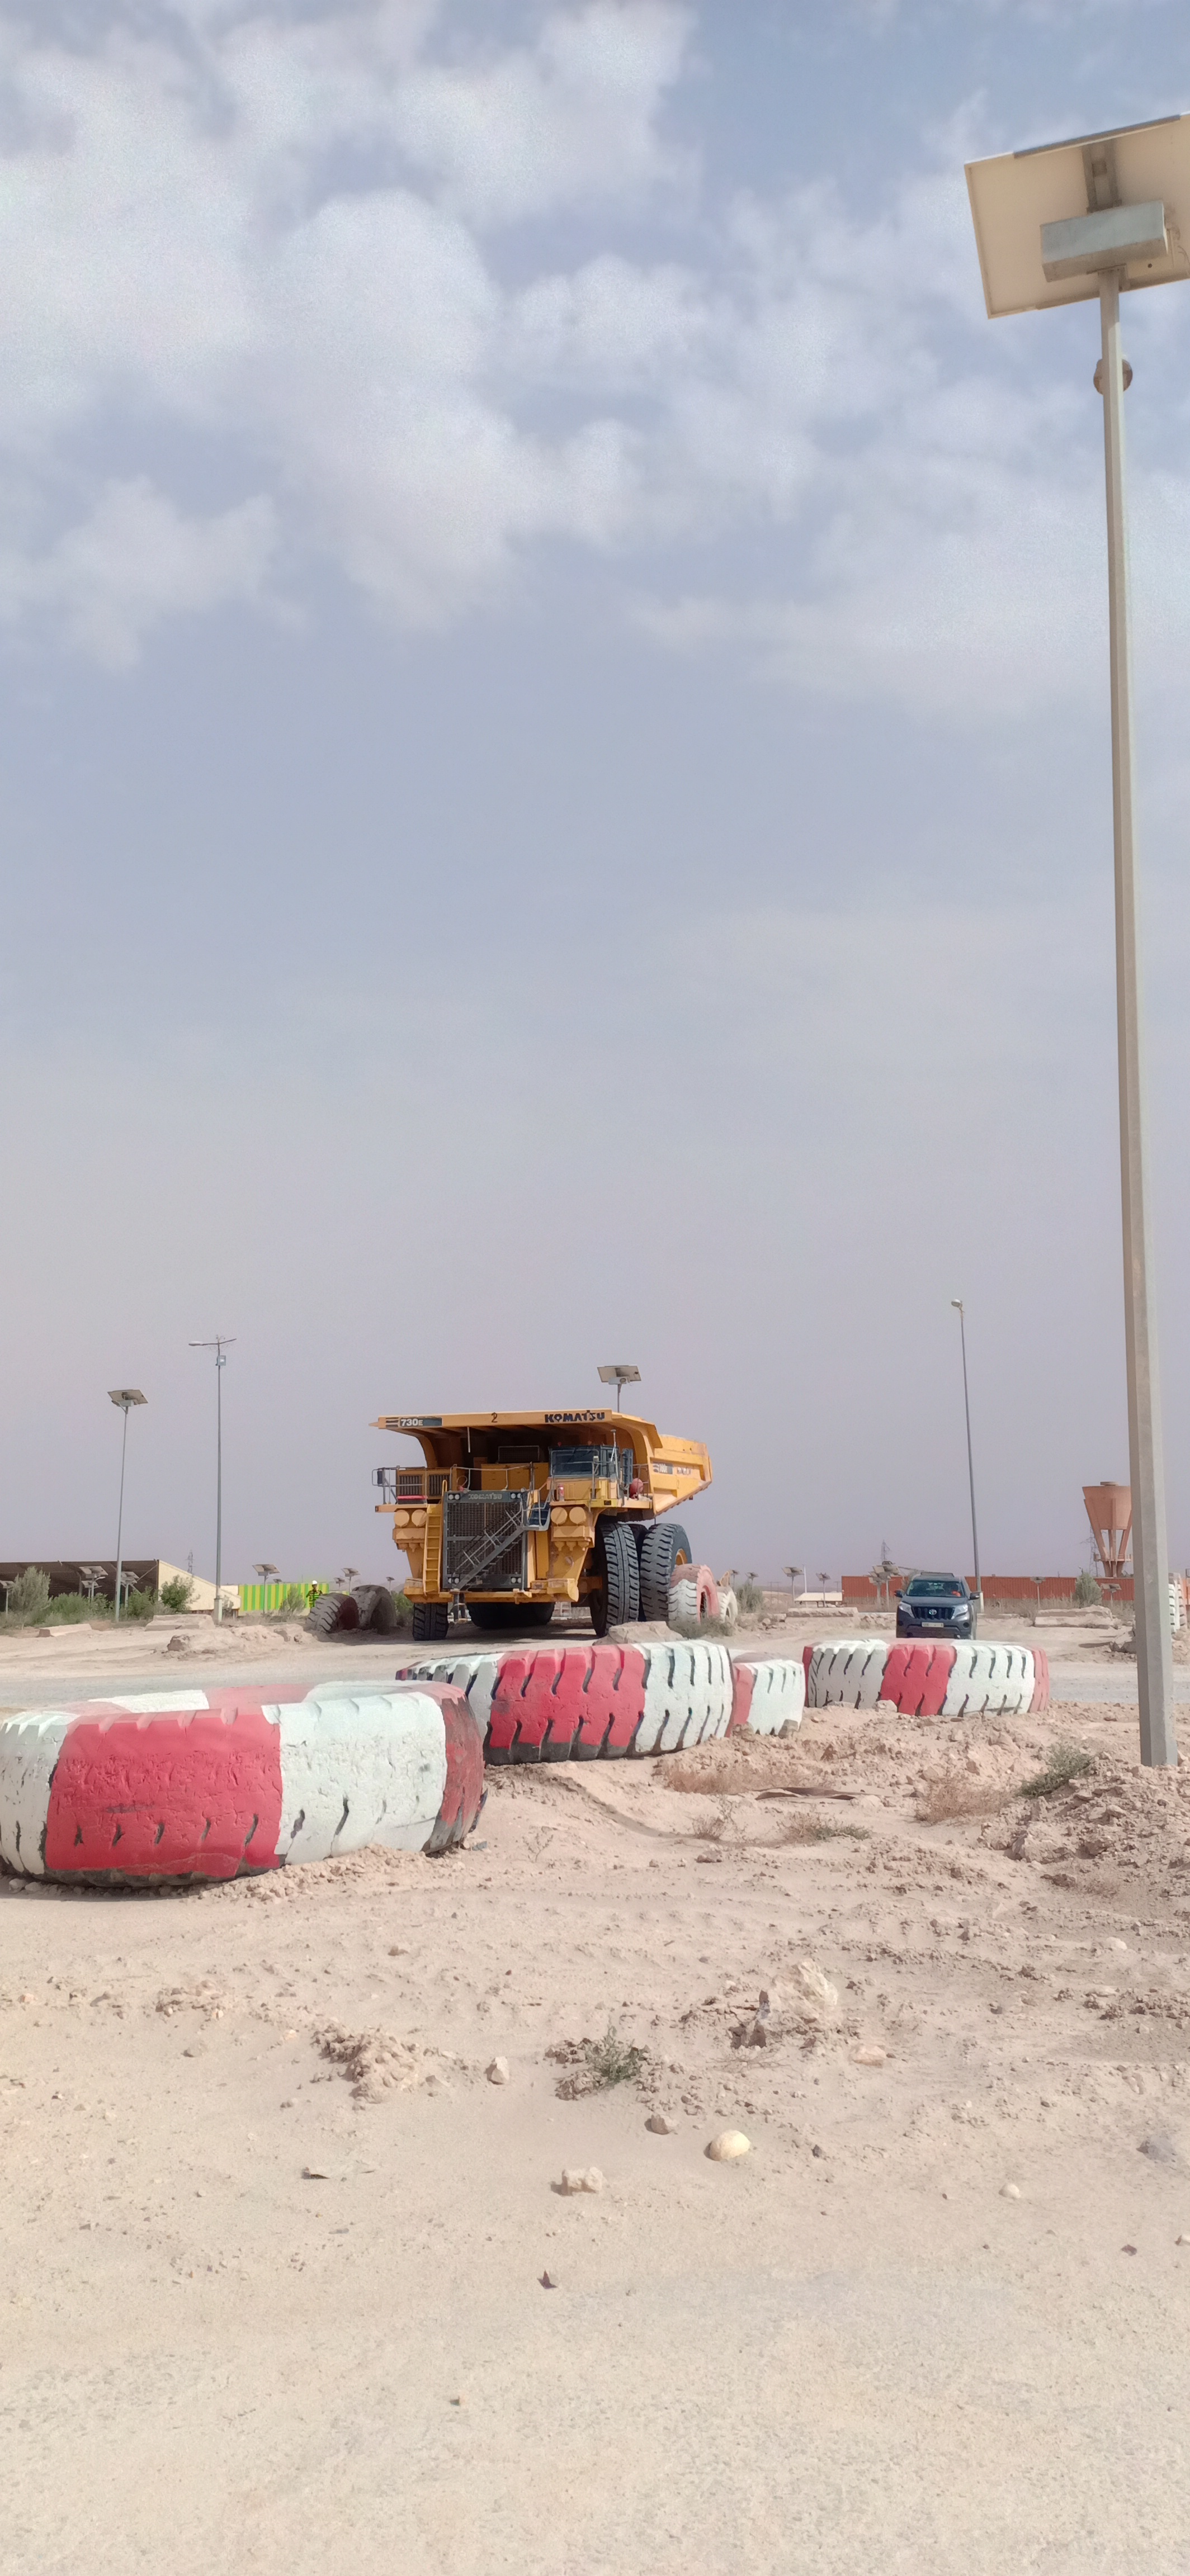camion: (363, 1388, 725, 1659)
car: (874, 1561, 999, 1654)
